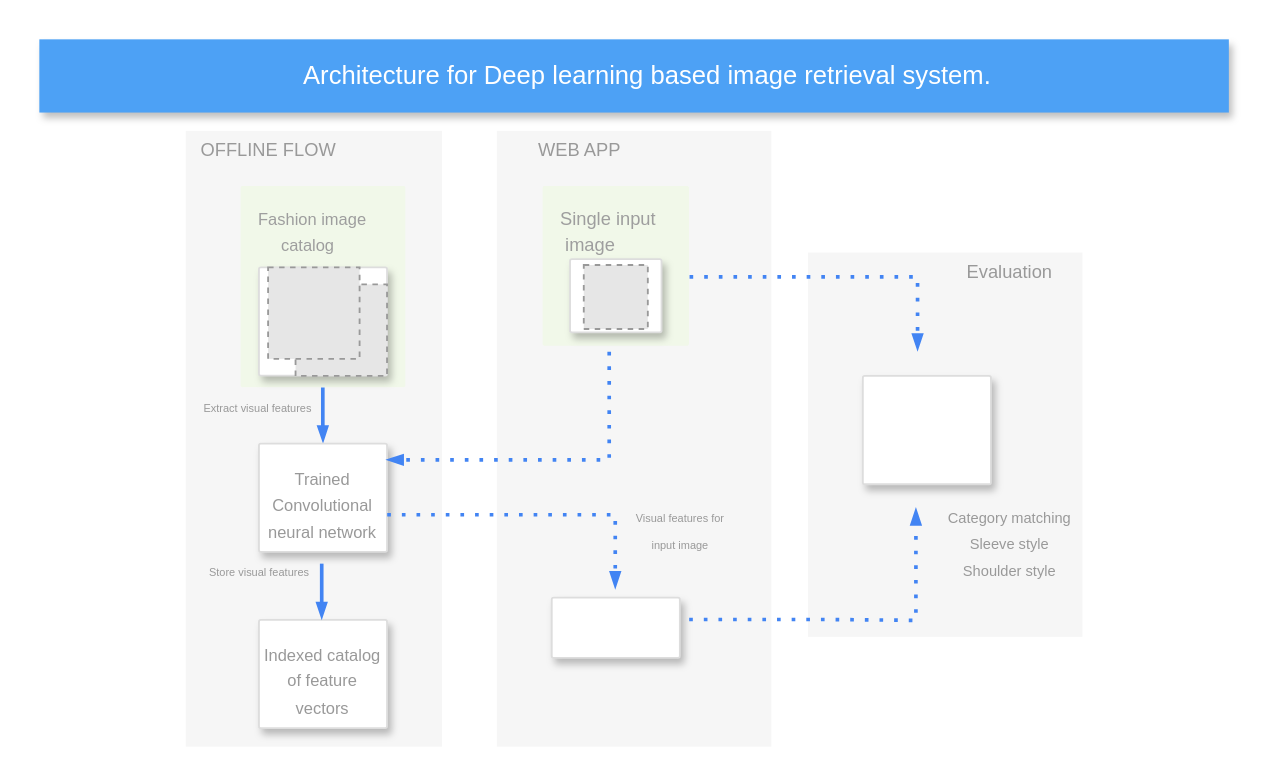
Image size: 1270x778. Some labels were removed from this diagram. Grey dashed boxes stand in for pictures. The shapes that lost their labels are listed below. From the top down, each one's centre as x and y in pixels, then its label:
At [928,432]: "Evaluate results".
At [617,630]: "Compute most similar image(s)".
